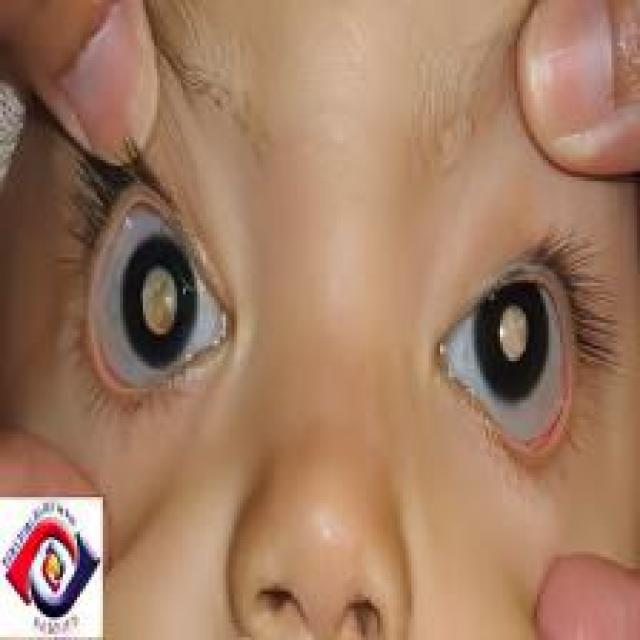reflexo-alterado: (442, 232, 608, 502), (70, 156, 227, 427)
